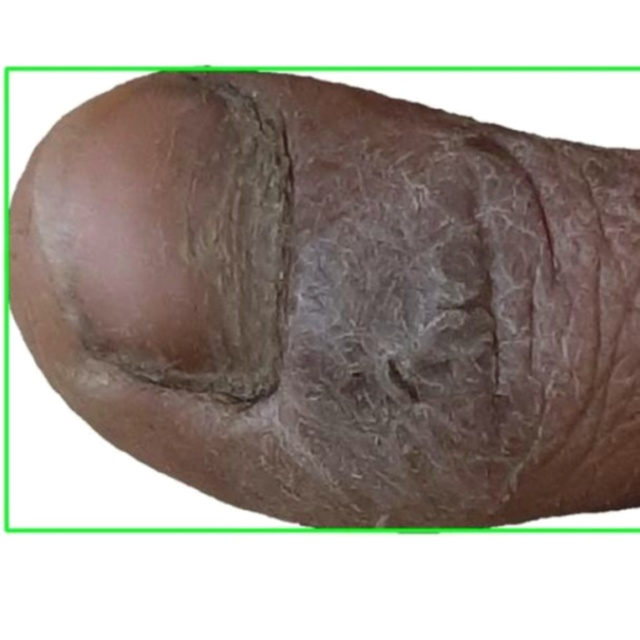Contact Dermatitis: (0, 0, 639, 639), (6, 68, 639, 530)
